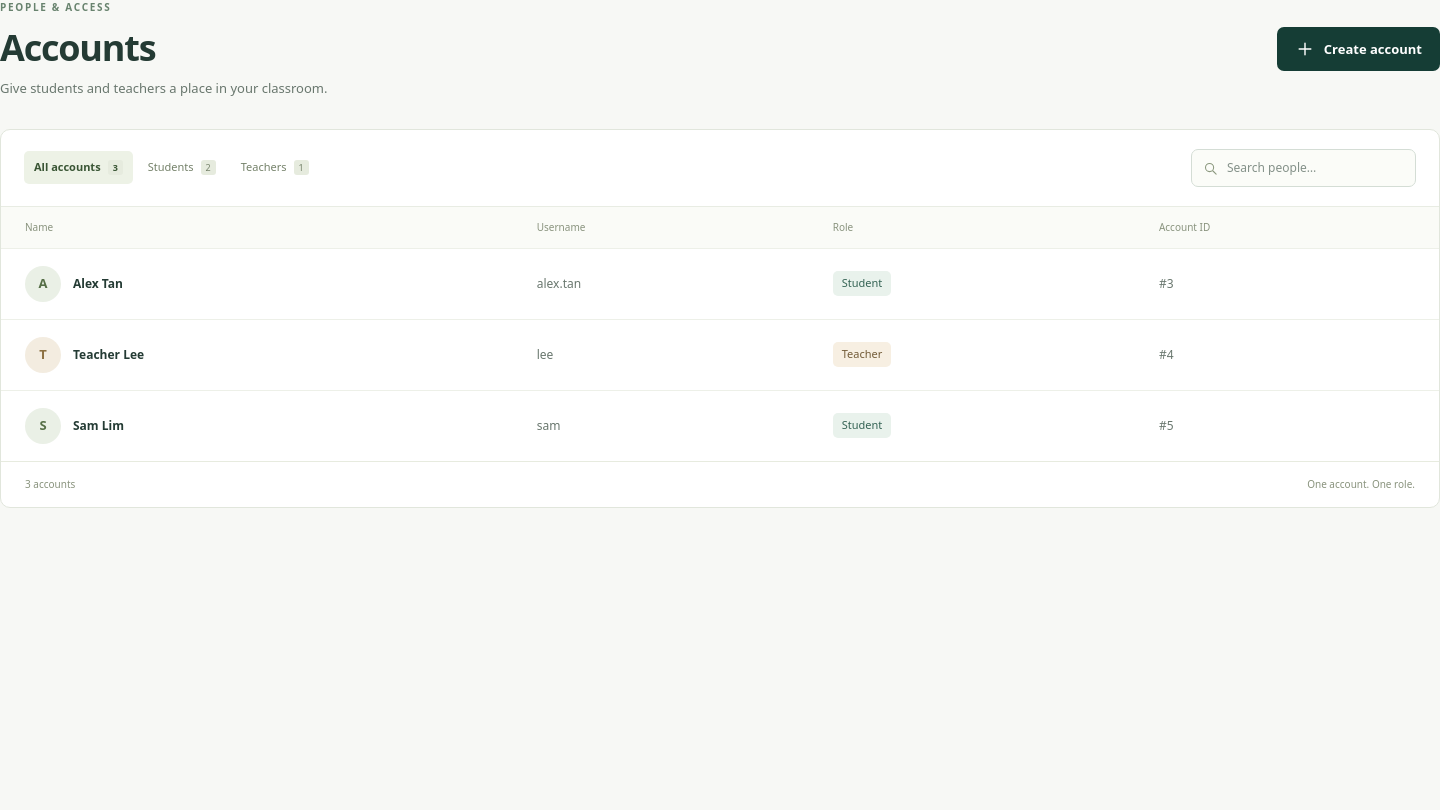
it: admin accounts › retains input and shows a server username conflict
The image size is (1440, 810).
Step 1. Click the button "Create account" → (1358, 49), box [1277,27,1439,71]
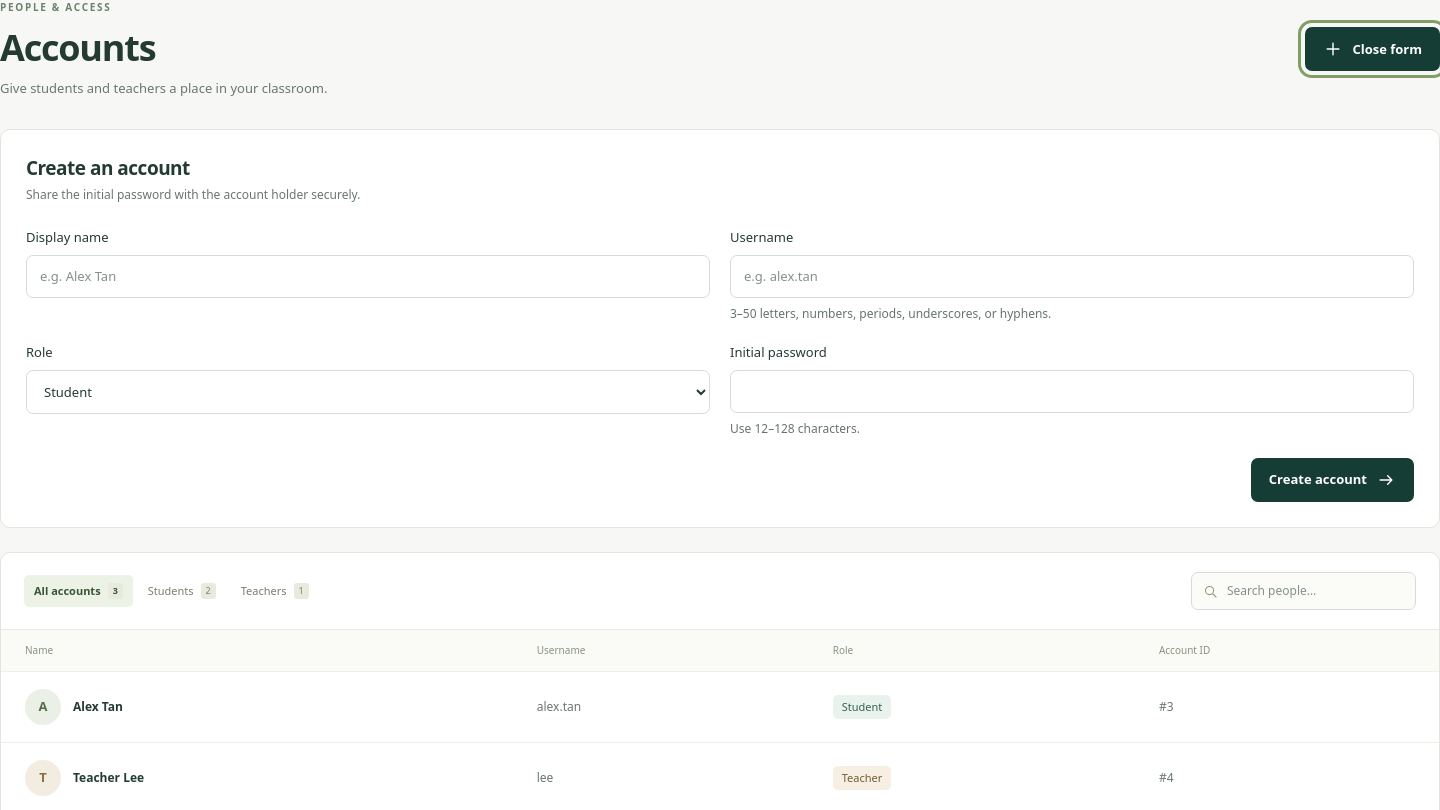
Step 2. Type " New Person " into the field labelled "Display name" → (368, 276), box [26,255,710,298]
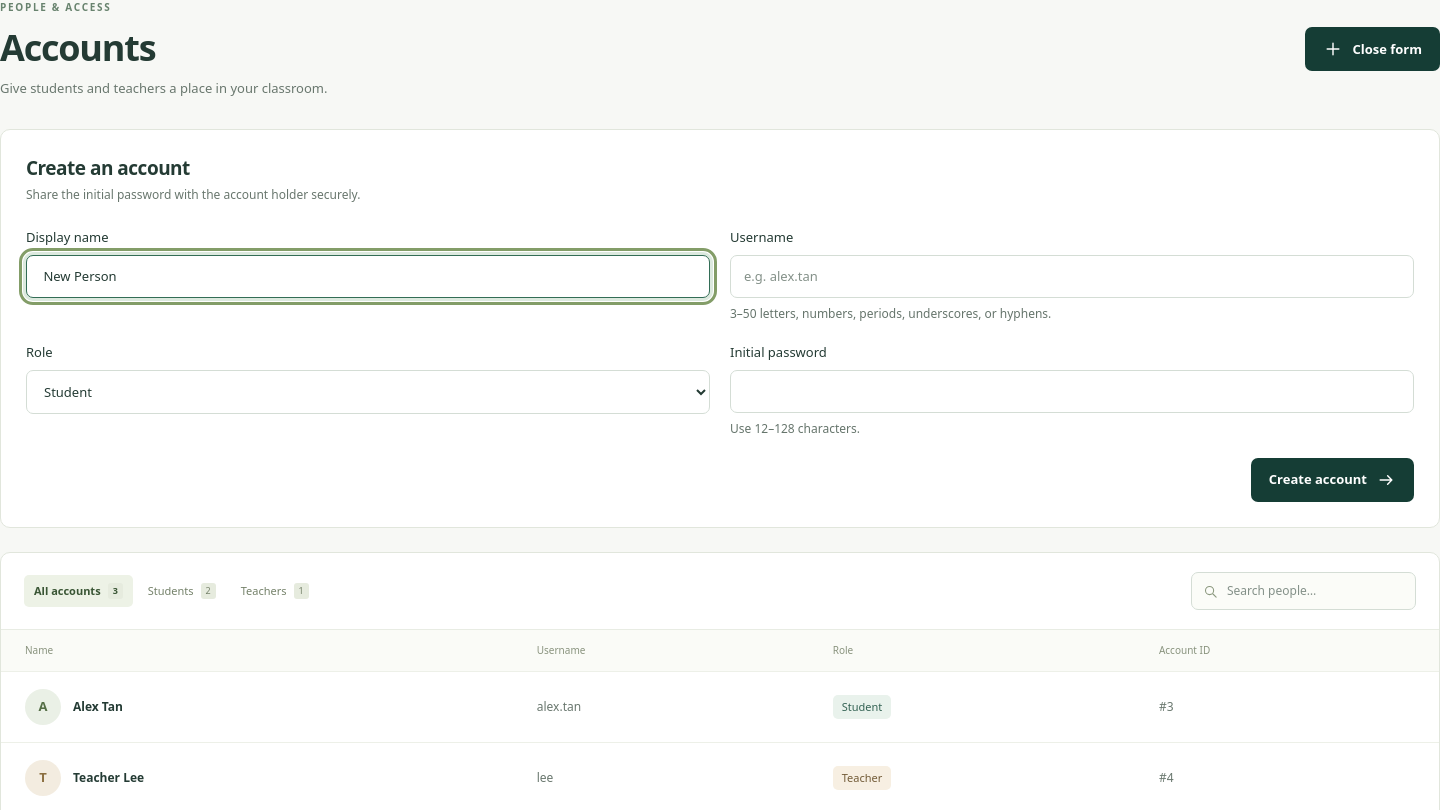
Step 3. Type "new.person" into the field labelled "Username" → (1072, 276), box [730,255,1414,298]
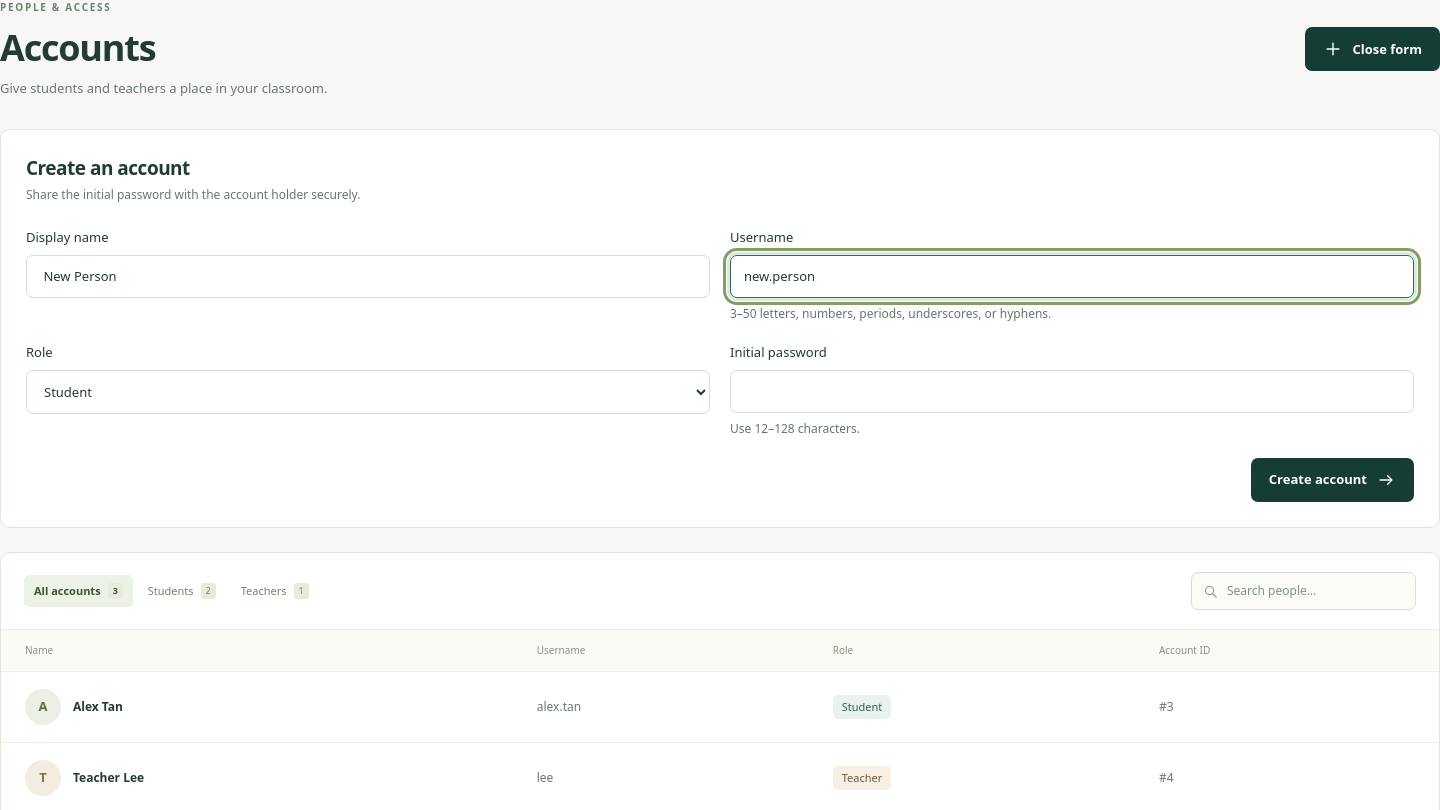
Step 4. Type " a long password " into the password field labelled "Initial password Use 12–128 characters." → (1072, 391), box [730,370,1414,413]
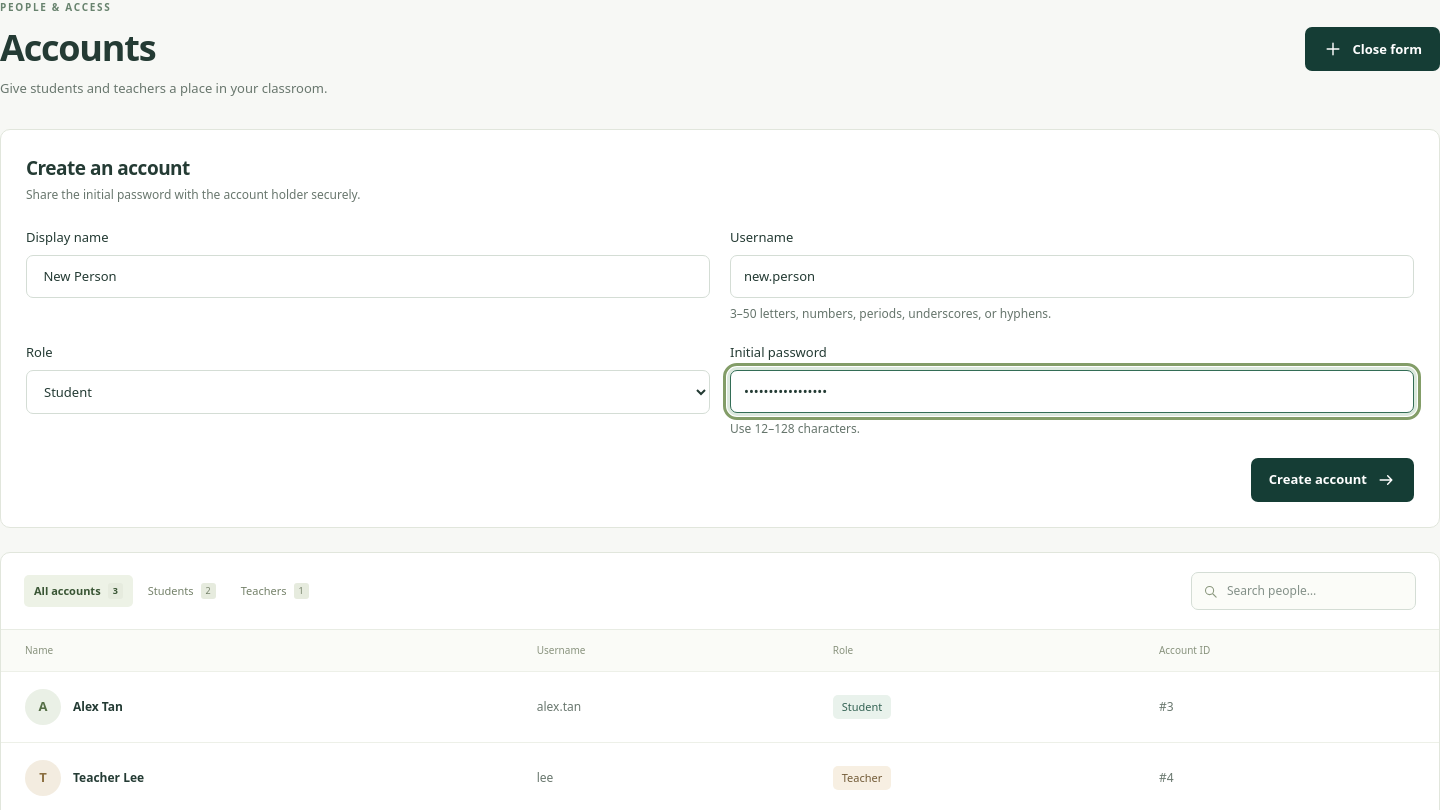
Step 5. Select "Student" in the dropdown labelled "Role" → (368, 392), box [26,370,710,414]
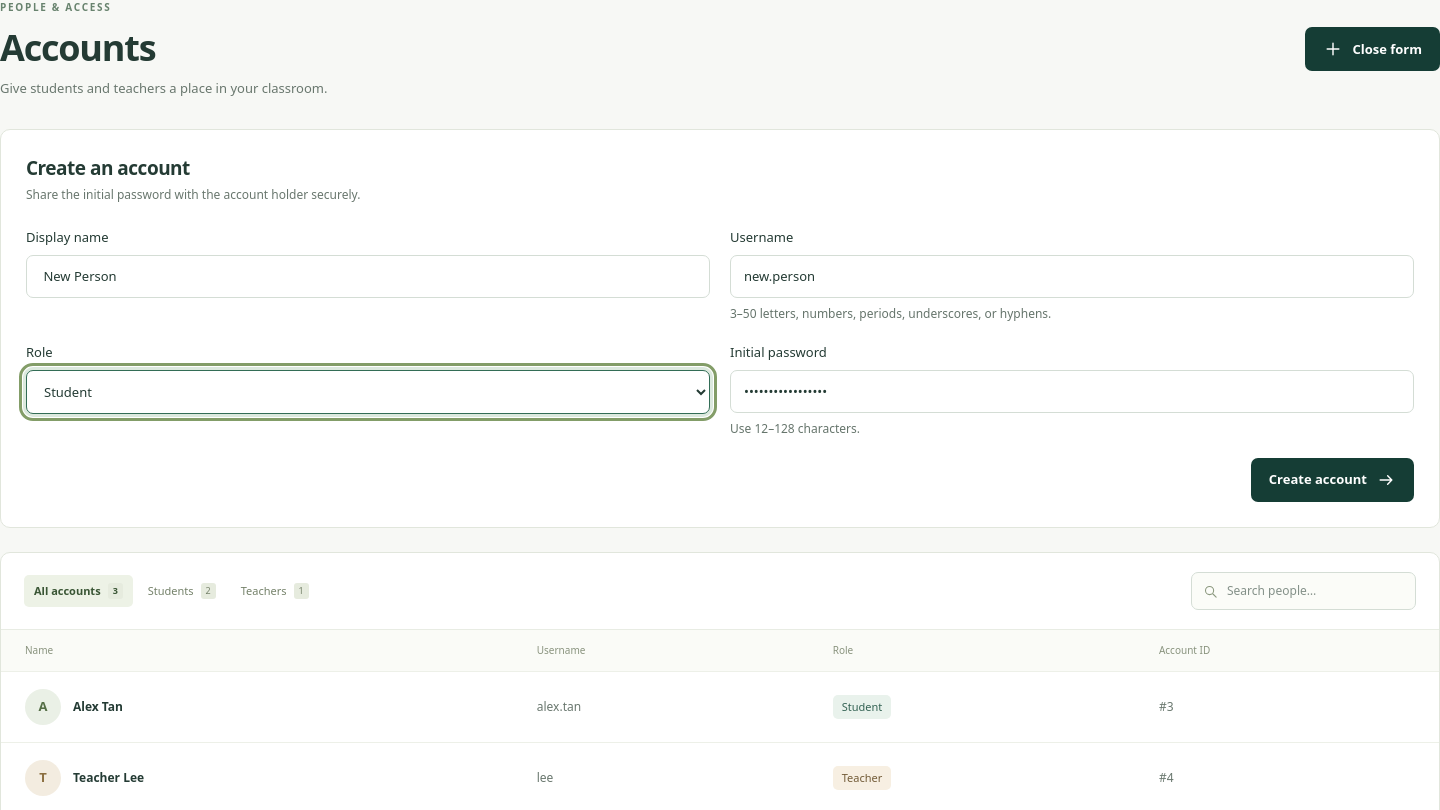
Step 6. Click the button "Create account" → (1332, 480), box [1251,458,1414,502]
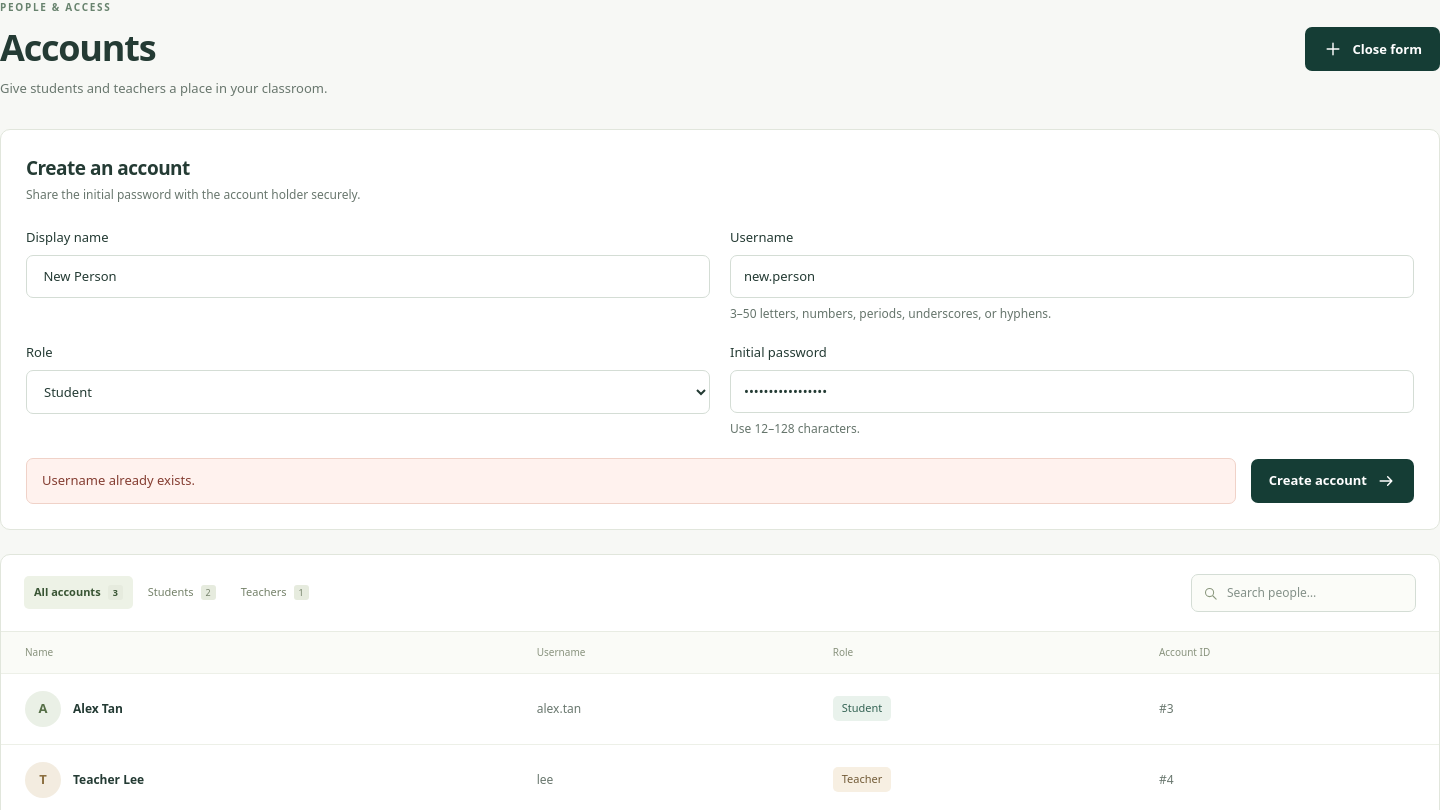
Expected: the text "Username already exists." is shown, [26,458,1236,504]
